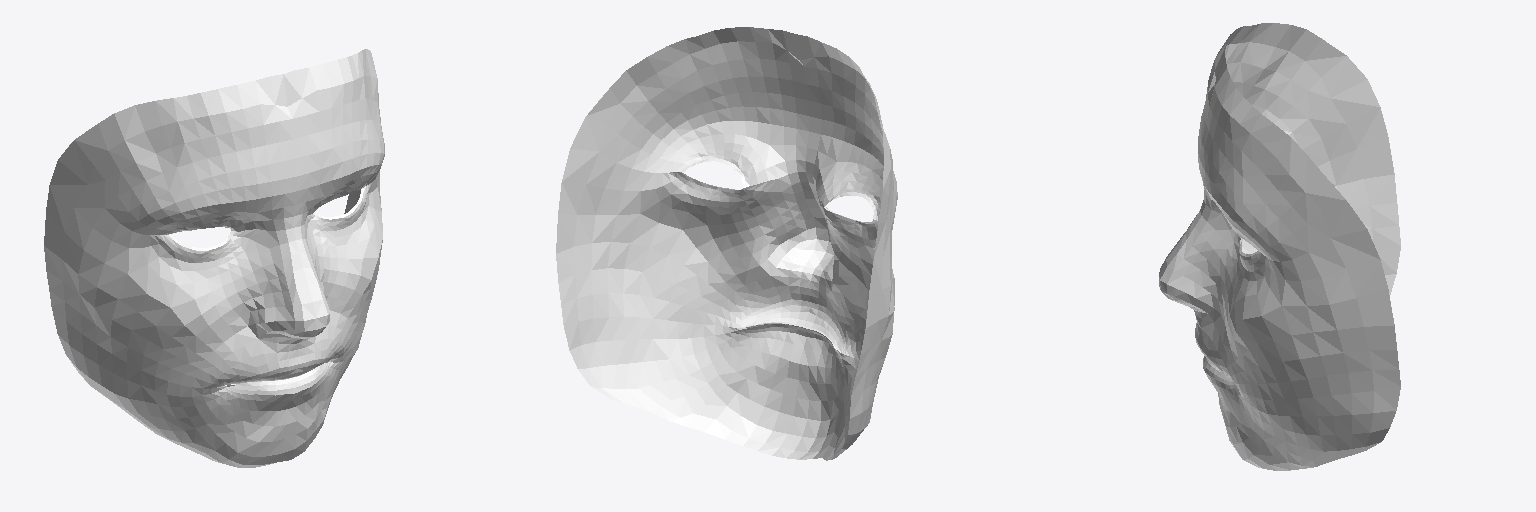
The model's file is old.obj.
The picture shows the model from 3 angles: view 1: azimuth 30°, elevation 25°; view 2: azimuth 150°, elevation 25°; view 3: azimuth 270°, elevation 25°; orthographic projection.
Visible parts, largest first — view 1: mesh_0; view 2: mesh_0; view 3: mesh_0.
Boxes of the visible parts, x1,y1,x2,y2 form: mesh_0: [44, 49, 384, 467]; mesh_0: [556, 27, 897, 460]; mesh_0: [1159, 23, 1400, 470].
Bounding box in the file's own units: 14.95 × 18.55 × 10.05.